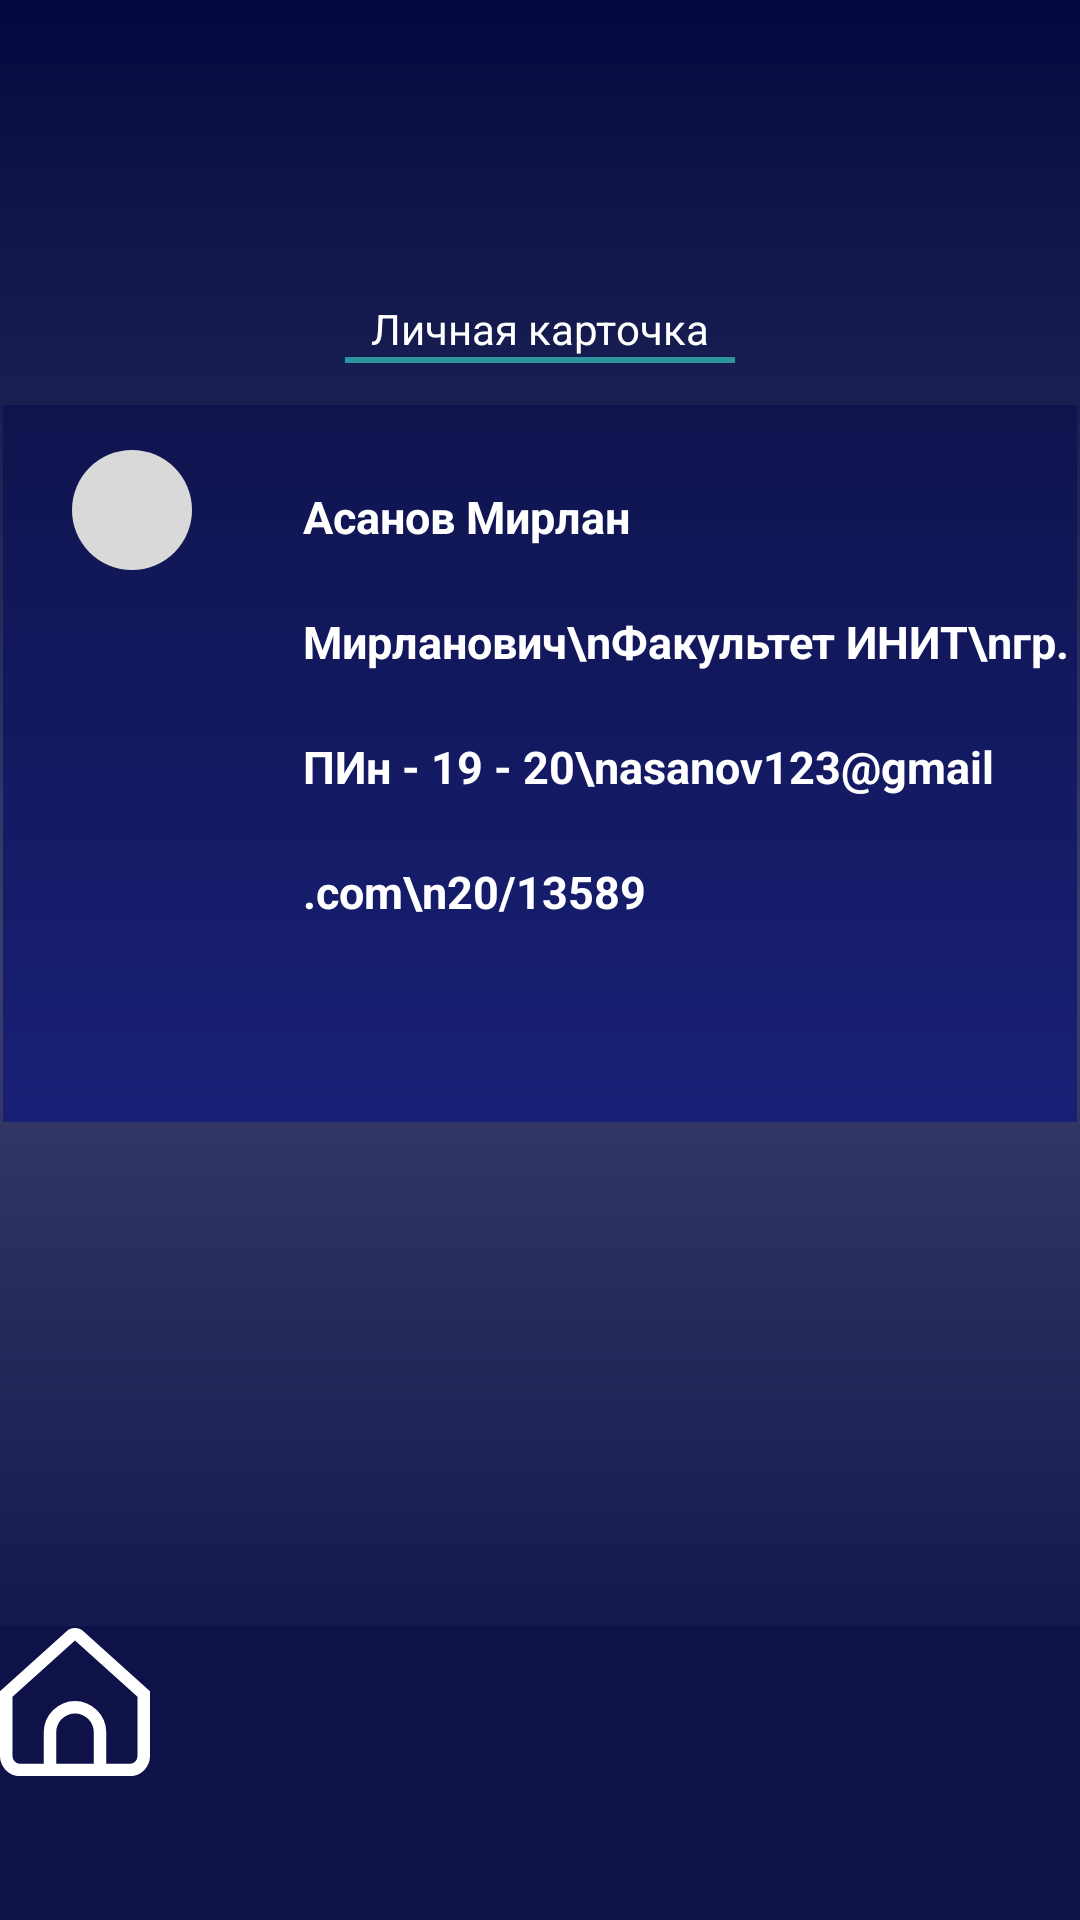

Icons on this 1080 x 1920 Android screen, each with the point to tap as point (x, y):
home: point (75, 1702)
